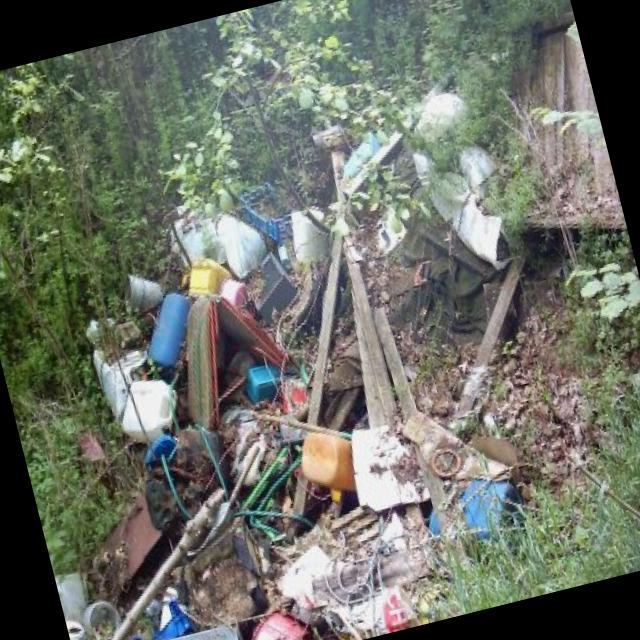garbage: (0, 45, 609, 640)
